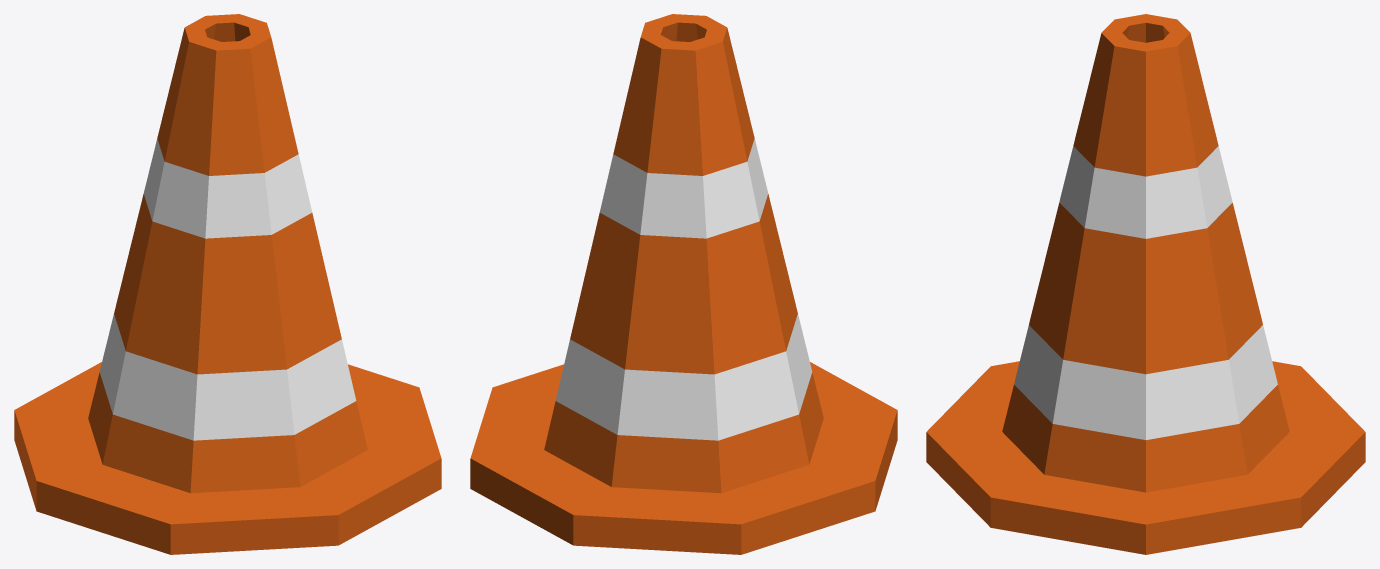
Rendered from TrafficCone.fbx.
3 renders of one model, left to right at view 1: azimuth 30°, elevation 25°; view 2: azimuth 150°, elevation 25°; view 3: azimuth 270°, elevation 25°, orthographic.
Parts seen in each view (by area): view 1: TrafficCone; view 2: TrafficCone; view 3: TrafficCone.
Part boxes in pixels (box(x1,y1,x2,y2)): TrafficCone: box(14, 14, 441, 554); TrafficCone: box(470, 14, 897, 554); TrafficCone: box(926, 14, 1365, 554).
Size of the model in its own units: 219 by 237 by 219.
